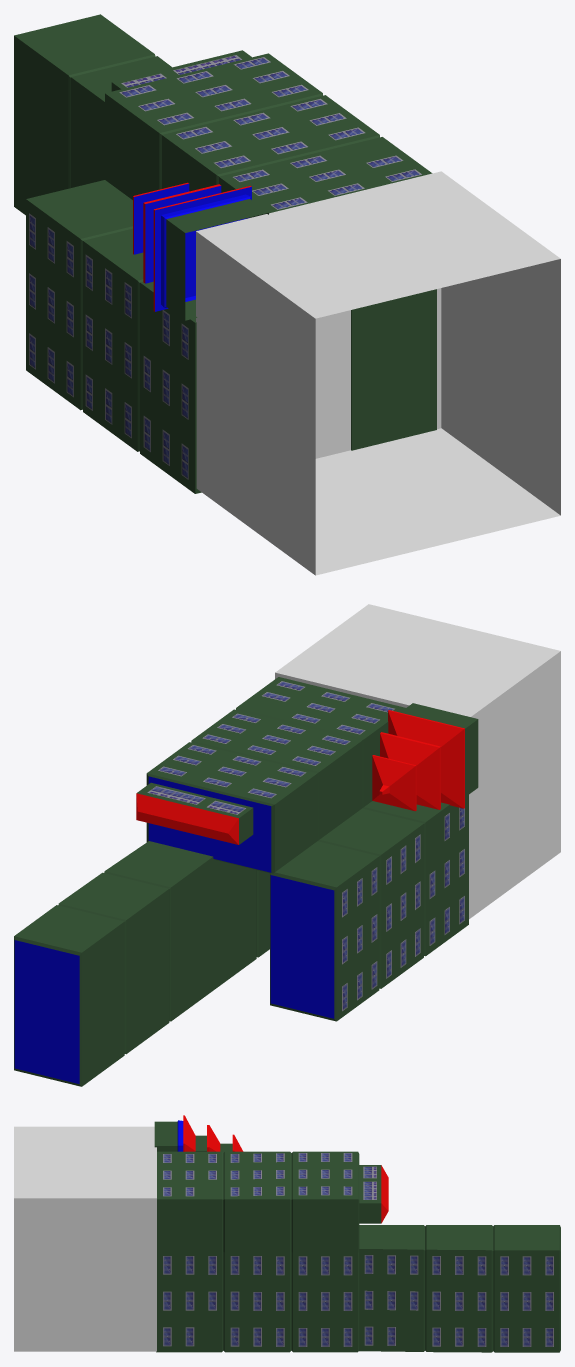
File: block_tall_01.FBX
3 renders of one model, top to bottom at view 1: azimuth 30°, elevation 25°; view 2: azimuth 150°, elevation 25°; view 3: azimuth 270°, elevation 25°, orthographic. The views are drawn at different scales.
Visible parts, largest first — view 1: Plane002, building_9s_004, building_9s_005, building_9s_006, building_9s_003, 10x10_3s013, Box1038; view 2: Plane002, building_9s_006, building_9s_004, building_9s_005, 10x10_3s013, building_9s_003, Box1038; view 3: Plane002, building_9s_006, building_9s_005, building_9s_003, 10x10_3s013, Box1038.
Part boxes in pixels (x1=…): Plane002: x1=196, y1=171, x2=560, y2=575; building_9s_004: x1=26, y1=180, x2=201, y2=493; building_9s_005: x1=105, y1=53, x2=432, y2=213; building_9s_006: x1=14, y1=14, x2=171, y2=215; building_9s_003: x1=351, y1=289, x2=436, y2=450; 10x10_3s013: x1=133, y1=182, x2=268, y2=320; Box1038: x1=111, y1=50, x2=251, y2=91; Plane002: x1=275, y1=604, x2=560, y2=919; building_9s_006: x1=14, y1=841, x2=214, y2=1086; building_9s_004: x1=270, y1=795, x2=468, y2=1021; building_9s_005: x1=146, y1=677, x2=405, y2=873; 10x10_3s013: x1=372, y1=703, x2=478, y2=811; building_9s_003: x1=214, y1=860, x2=269, y2=989; Box1038: x1=136, y1=782, x2=253, y2=844; Plane002: x1=14, y1=1126, x2=156, y2=1351; building_9s_006: x1=359, y1=1225, x2=560, y2=1352; building_9s_005: x1=157, y1=1151, x2=359, y2=1252; building_9s_003: x1=156, y1=1251, x2=359, y2=1352; 10x10_3s013: x1=154, y1=1115, x2=243, y2=1152; Box1038: x1=359, y1=1165, x2=388, y2=1223.
Bounding box in the file's own units: 32.33 × 31.69 × 96.86.
